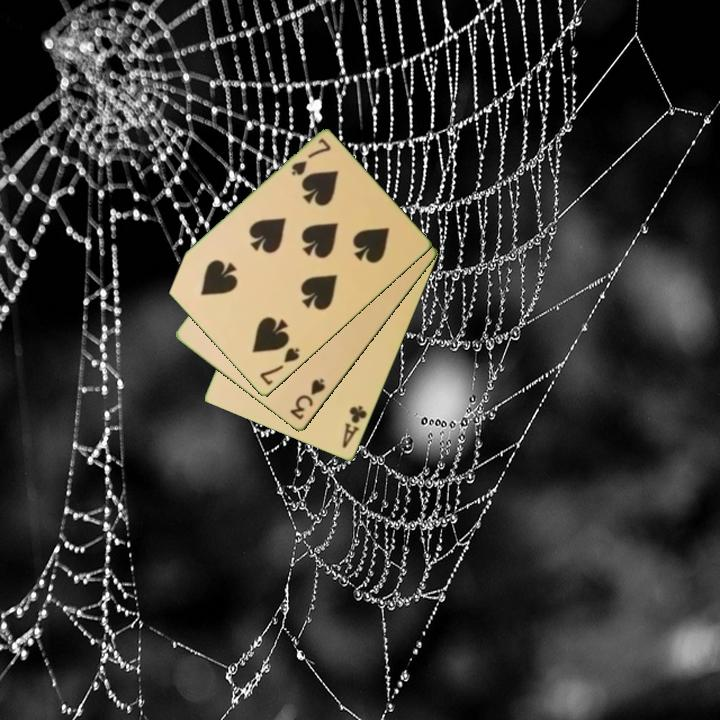3s: (286, 375, 328, 423)
7s: (256, 345, 303, 389), (288, 135, 334, 179)
Ac: (339, 402, 370, 451)
